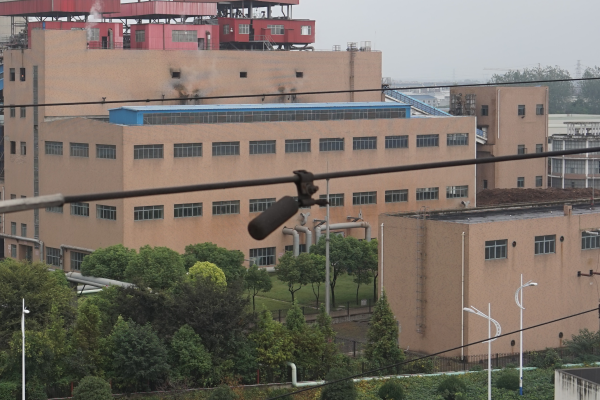damper_defect: (244, 166, 334, 242)
